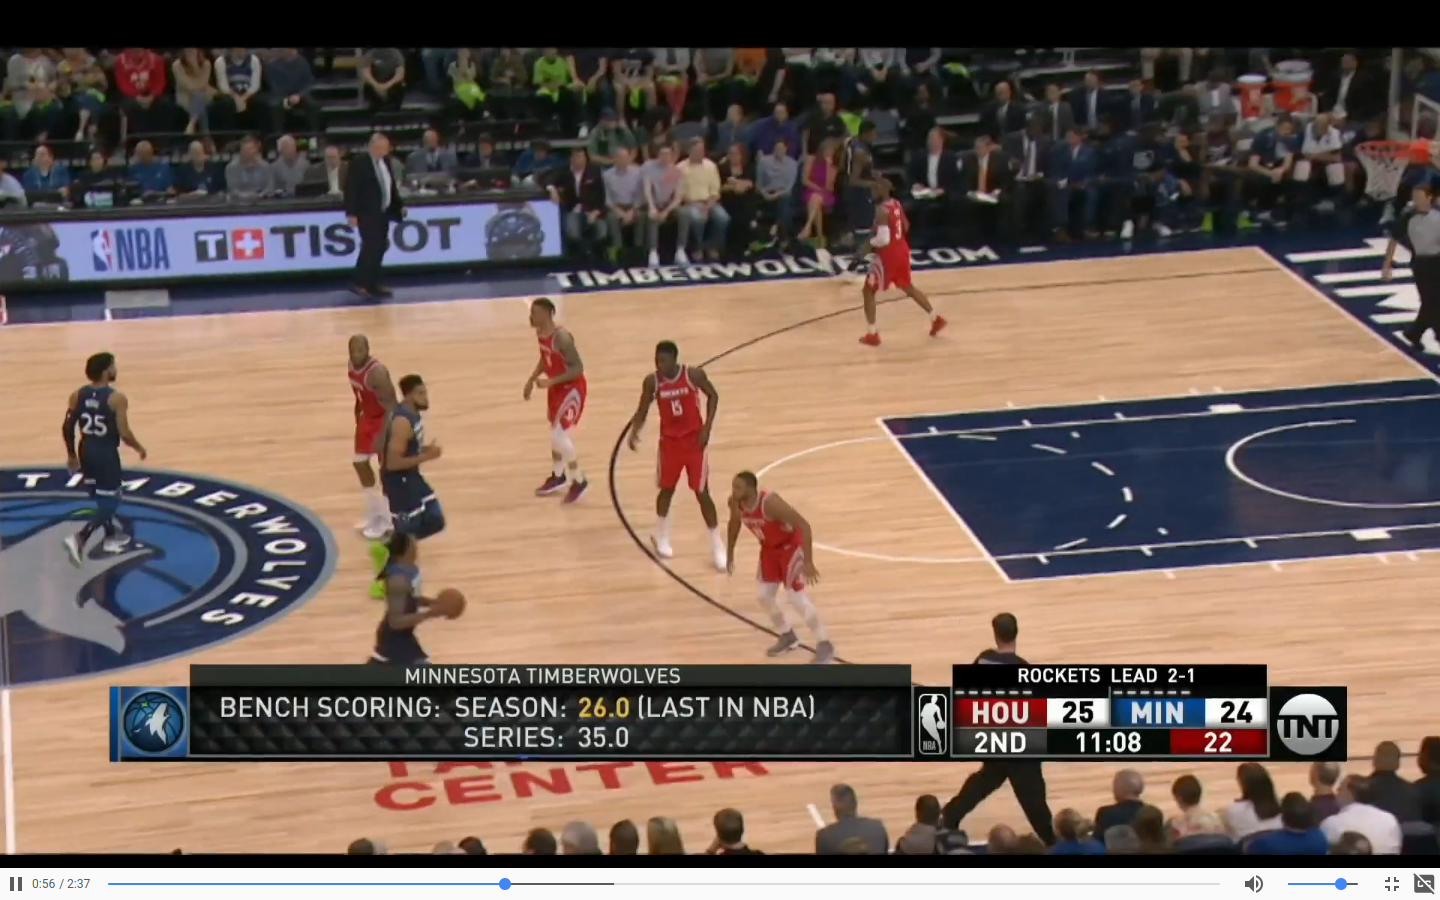ball: (444, 586, 467, 617)
player: (719, 467, 842, 656), (625, 339, 726, 554), (857, 189, 956, 357), (521, 297, 597, 500), (338, 332, 403, 506), (372, 524, 432, 672), (390, 378, 434, 530)
